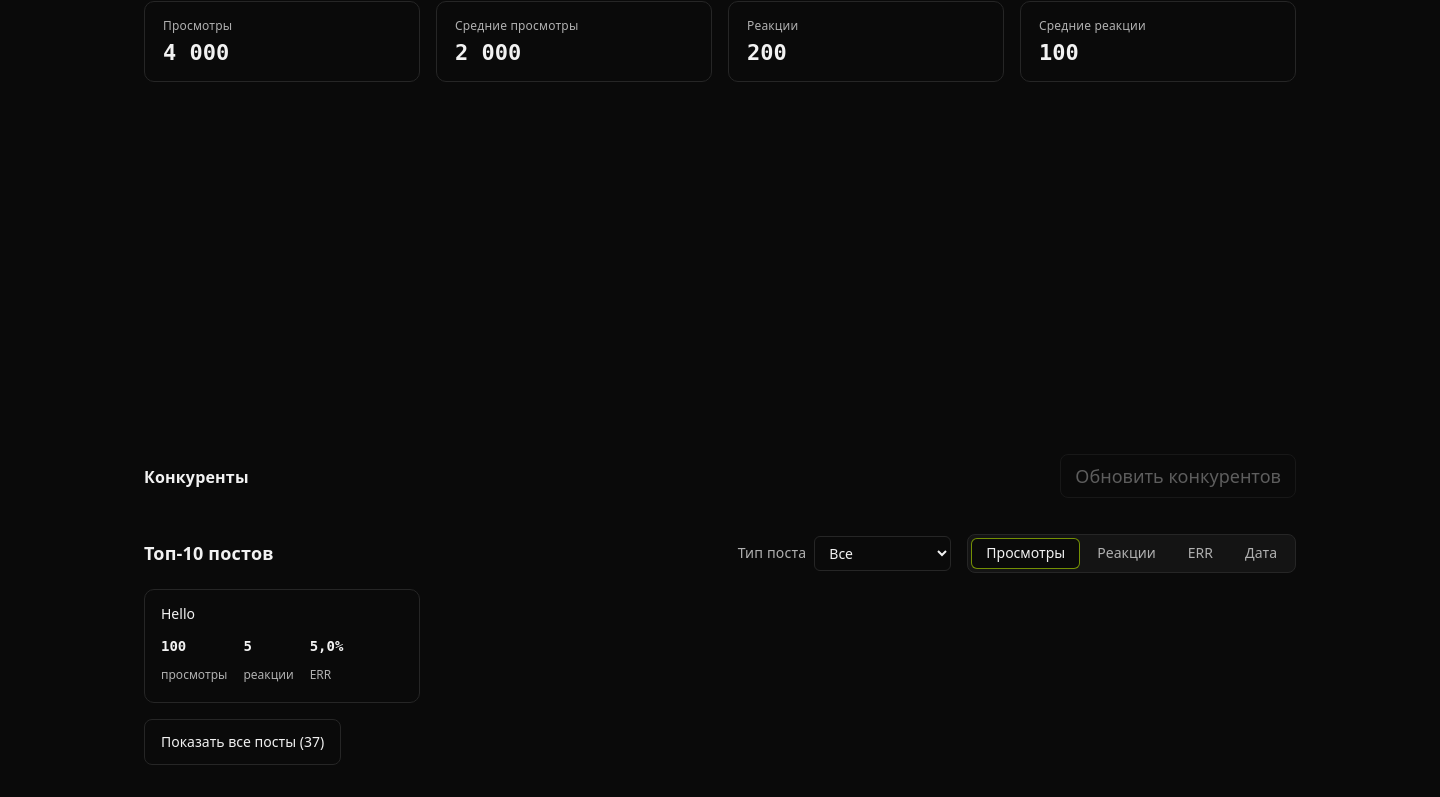
Test: AccountDetailPage › keeps the full list behind a button that shows the total, and loads it only when opened
This screenshot has width=1440, height=797.
(page scrolled)
Check: the text "Всего постов: 37" is not shown
What coordinates should you click on to do the following:
click the button "Показать все посты (37)"
I would click on:
 (243, 742)
Its box is [144, 719, 341, 765].
(page scrolled)
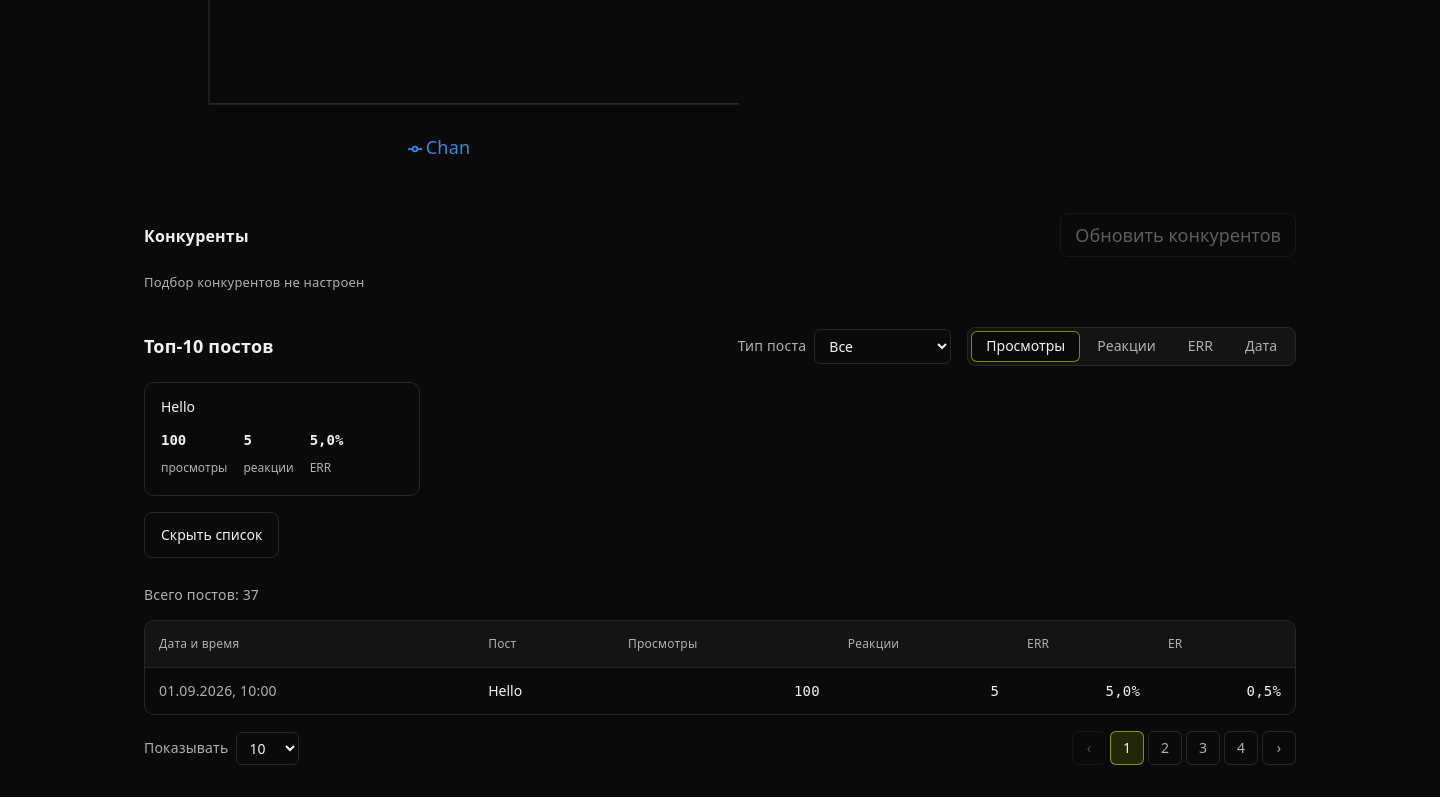
Check: the text "Всего постов: 37" is shown, box [144, 585, 259, 604]
Check: the button named "Показать все посты (37)" reads "Скрыть список"
What coordinates should you click on to do the following:
click the button named "Показать все посты (37)"
I would click on:
 (212, 535)
Its box is [144, 512, 279, 558].
(page scrolled)
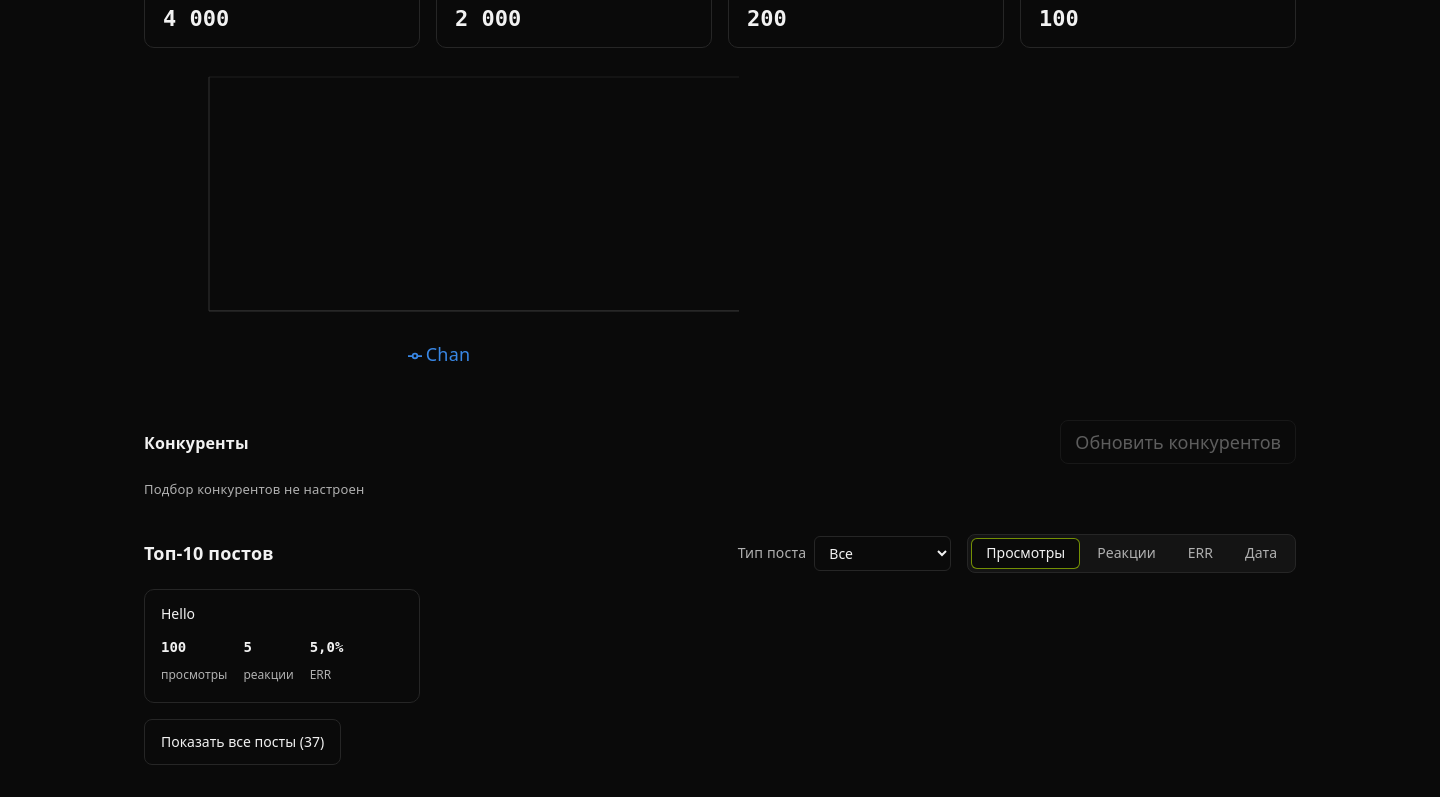
Check: the text "Всего постов: 37" is gone
